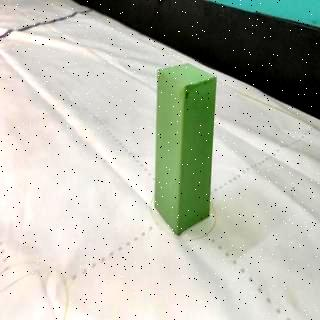greenbox: (154, 62, 218, 236)
